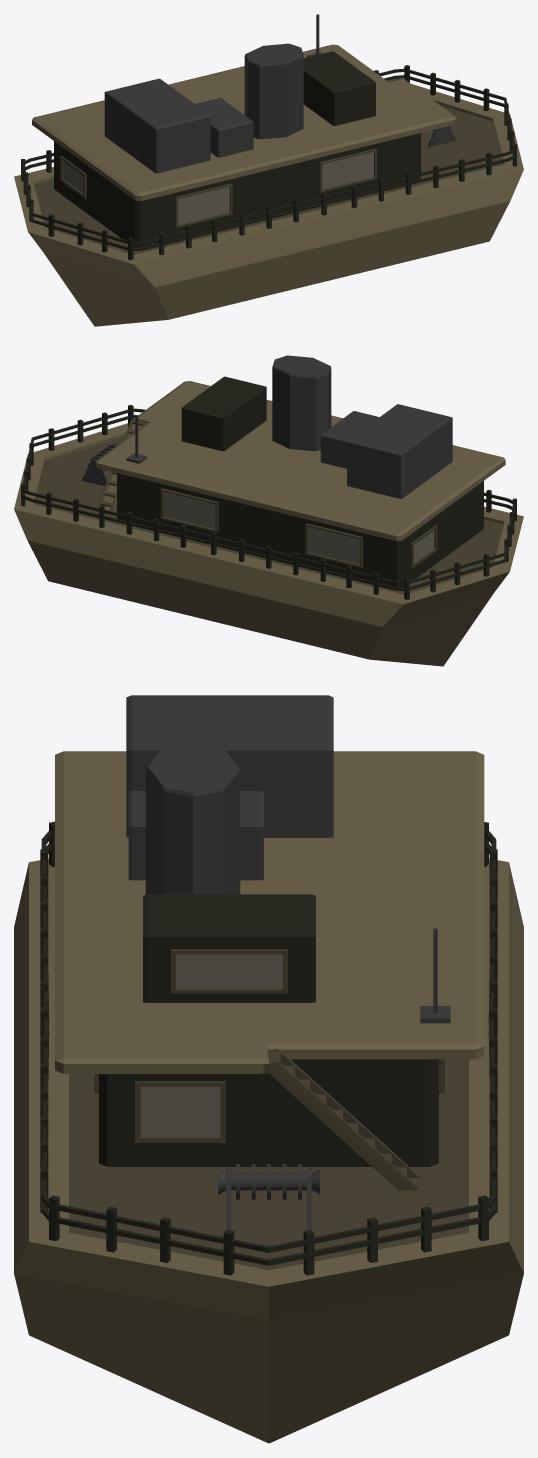
Rendered from YellowShip.fbx.
3 renders of one model, top to bottom at view 1: azimuth 30°, elevation 25°; view 2: azimuth 150°, elevation 25°; view 3: azimuth 270°, elevation 25°, orthographic. The views are drawn at different scales.
Parts seen in each view (by area): view 1: YellowShip; view 2: YellowShip; view 3: YellowShip.
Boxes of the visible parts, left/top/right/bottom form: YellowShip: left=14, top=14, right=523, bottom=326; YellowShip: left=14, top=355, right=523, bottom=666; YellowShip: left=14, top=695, right=523, bottom=1443.
Bounding box in the file's own units: 3613 × 1771 × 1658.
